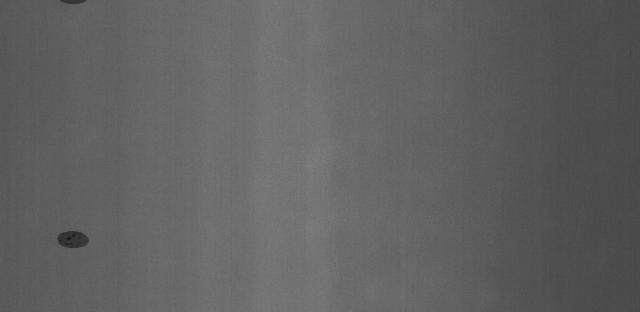oil_spot: (53, 226, 94, 254), (57, 0, 94, 10)
